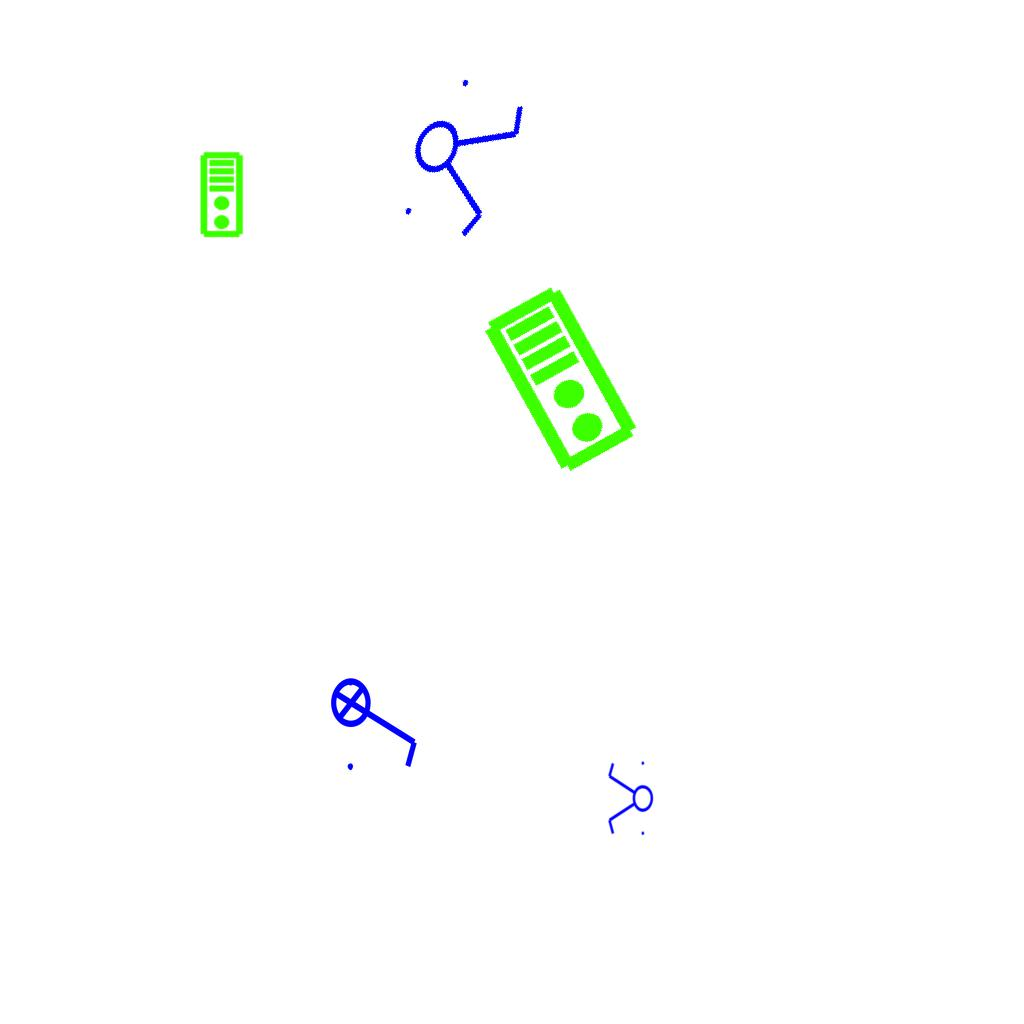Ausschalter_beleuchtet: (329, 664, 425, 776)
Gegensprechanlage_mit_Video: (478, 279, 647, 479), (199, 151, 246, 239)
Serienschalter: (382, 59, 540, 253), (606, 757, 654, 841)
